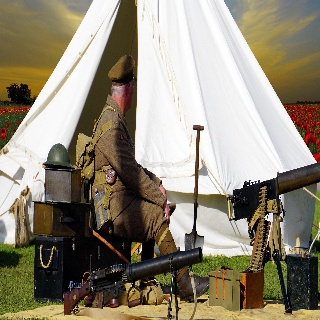rifle: (63, 247, 204, 318)
